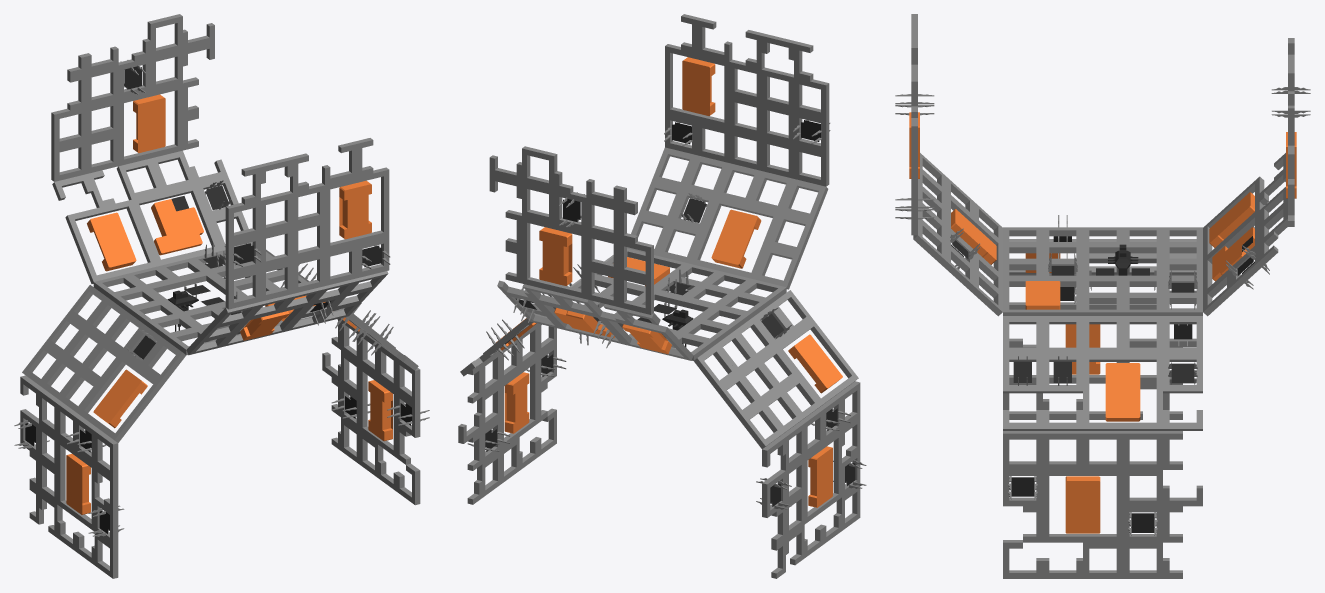
File: StarbaseAtlasProjectEmpireHQ.glb
3 renders of one model, left to right at view 1: azimuth 30°, elevation 25°; view 2: azimuth 150°, elevation 25°; view 3: azimuth 270°, elevation 25°, orthographic. The views are drawn at different scales.
Visible parts, largest first — view 1: Block_Ship_Shop_Empire.001, Block_Ship_Hangars_Empire.002, Block_Ship_Hangars_Empire.005, Block_Ship_Hangars_Empire.003, Block_Ship_Hangars_Empire.006, Block_Ship_Hangars_Empire.007, Block_Ship_Hangars_Empire.009, Block_VIS_HQ.001, Block_Ship_Hangars_Empire.004, Quarter_Block_Towers.007, Quarter_Block_Towers.004, Quarter_Block_Towers.006 (+56 smaller); view 2: Block_Ship_Hangars_Empire.004, Block_Ship_Hangars_Empire.003, Block_Ship_Hangars_Empire.005, Block_Ship_Hangars_Empire.006, Block_Ship_Hangars_Empire.007, Block_Ship_Hangars_Empire.009, Block_Ship_Hangars_Empire.002, Block_Ship_Shop_Empire.001, Block_VIS_HQ.001, Quarter_Block_Towers.007, Quarter_Block_Towers.005, Block_Ship_Hangars_Empire.001 (+66 smaller); view 3: Block_Ship_Hangars_Empire.008, Block_Ship_Hangars_Empire.009, Block_Ship_Hangars_Empire.001, Block_VIS_HQ.001, Block_Ship_Hangars_Empire.002, Block_Ship_Hangars_Empire.004, Block_Ship_Shop_Empire.001, Quarter_Block_Towers.012, Quarter_Block_Towers.015, Quarter_Block_Towers.016, Quarter_Block_Towers.013, Quarter_Block_Towers.014 (+47 smaller).
Boxes of the visible parts, bbox=[...] form: Block_Ship_Shop_Empire.001: bbox=[132, 184, 221, 266]; Block_Ship_Hangars_Empire.002: bbox=[65, 199, 157, 283]; Block_Ship_Hangars_Empire.005: bbox=[325, 167, 389, 252]; Block_Ship_Hangars_Empire.003: bbox=[118, 83, 182, 165]; Block_Ship_Hangars_Empire.006: bbox=[78, 355, 163, 442]; Block_Ship_Hangars_Empire.007: bbox=[57, 437, 99, 531]; Block_Ship_Hangars_Empire.009: bbox=[359, 364, 396, 457]; Block_VIS_HQ.001: bbox=[144, 272, 242, 331]; Block_Ship_Hangars_Empire.004: bbox=[221, 303, 310, 347]; Quarter_Block_Towers.007: bbox=[224, 234, 261, 275]; Quarter_Block_Towers.004: bbox=[118, 57, 150, 98]; Quarter_Block_Towers.006: bbox=[357, 237, 390, 277]; Block_Ship_Hangars_Empire.004: bbox=[690, 196, 780, 279]; Block_Ship_Hangars_Empire.003: bbox=[522, 216, 586, 298]; Block_Ship_Hangars_Empire.005: bbox=[665, 44, 729, 128]; Block_Ship_Hangars_Empire.006: bbox=[776, 319, 858, 406]; Block_Ship_Hangars_Empire.007: bbox=[804, 430, 841, 524]; Block_Ship_Hangars_Empire.009: bbox=[501, 356, 538, 450]; Block_Ship_Hangars_Empire.002: bbox=[600, 311, 693, 360]; Block_Ship_Shop_Empire.001: bbox=[536, 301, 626, 348]; Block_VIS_HQ.001: bbox=[632, 291, 716, 347]; Quarter_Block_Towers.007: bbox=[793, 111, 830, 152]; Quarter_Block_Towers.005: bbox=[671, 189, 715, 229]; Block_Ship_Hangars_Empire.001: bbox=[594, 248, 689, 289]; Block_Ship_Hangars_Empire.008: bbox=[1083, 353, 1162, 430]; Block_Ship_Hangars_Empire.009: bbox=[1043, 470, 1122, 542]; Block_Ship_Hangars_Empire.001: bbox=[1003, 278, 1082, 315]; Block_VIS_HQ.001: bbox=[1083, 244, 1162, 290]; Block_Ship_Hangars_Empire.002: bbox=[1203, 176, 1264, 261]; Block_Ship_Hangars_Empire.004: bbox=[946, 193, 1002, 277]; Block_Ship_Shop_Empire.001: bbox=[1203, 210, 1259, 294]; Quarter_Block_Towers.012: bbox=[1163, 353, 1202, 393]; Quarter_Block_Towers.015: bbox=[1123, 506, 1162, 542]; Quarter_Block_Towers.016: bbox=[1003, 470, 1042, 506]; Quarter_Block_Towers.013: bbox=[1043, 353, 1082, 393]; Quarter_Block_Towers.014: bbox=[1003, 353, 1042, 393].
Size of the model in its own units: 1920 by 2295 by 1920.
